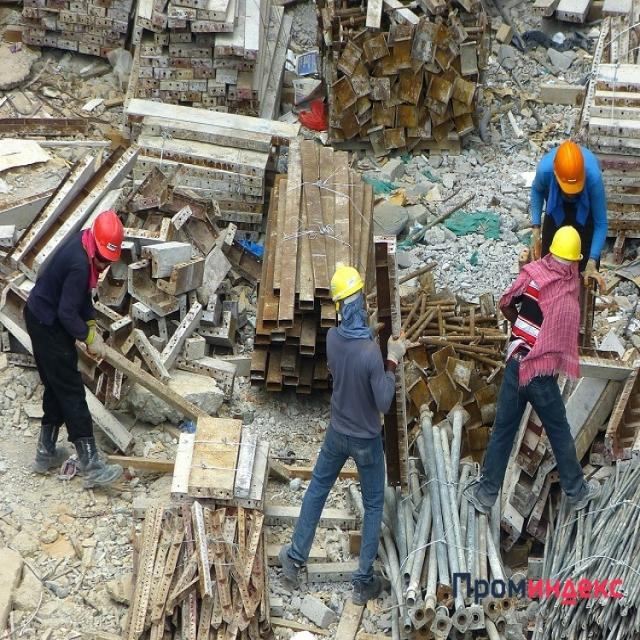Helmet: (554, 143, 587, 198), (94, 210, 126, 263), (329, 267, 366, 308), (548, 225, 585, 262)
NoJacket: (507, 268, 574, 378), (329, 315, 379, 438), (38, 239, 101, 336)
